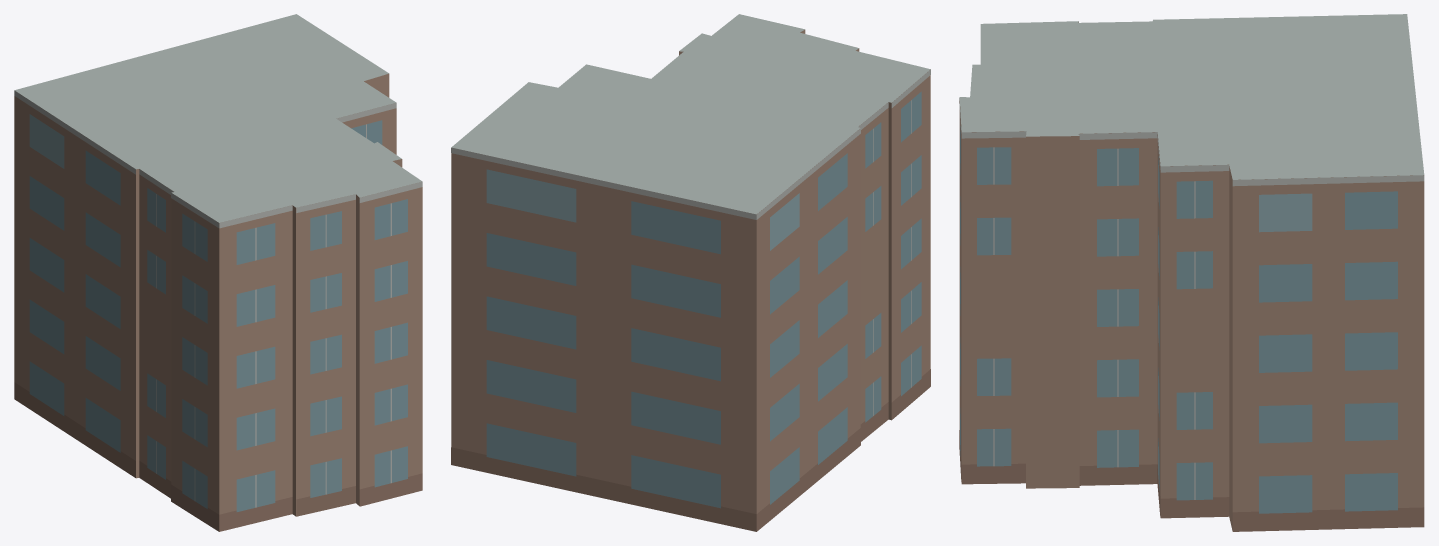
Rendered from survey-upis-32631470.glb.
3 renders of one model, left to right at view 1: azimuth 30°, elevation 25°; view 2: azimuth 150°, elevation 25°; view 3: azimuth 270°, elevation 25°, orthographic. The views are drawn at different scales.
Parts seen in each view (by area): view 1: survey-upis-32631470.tmp; view 2: survey-upis-32631470.tmp; view 3: survey-upis-32631470.tmp.
Part boxes in pixels (x1=…): survey-upis-32631470.tmp: x1=14, y1=14, x2=422, y2=531; survey-upis-32631470.tmp: x1=451, y1=14, x2=930, y2=531; survey-upis-32631470.tmp: x1=959, y1=14, x2=1424, y2=531.
Size of the model in its own units: 13.86 by 13.7 by 16.41.
